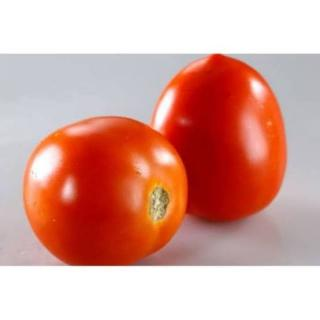Tomat: (23, 116, 190, 267), (150, 54, 289, 223)
